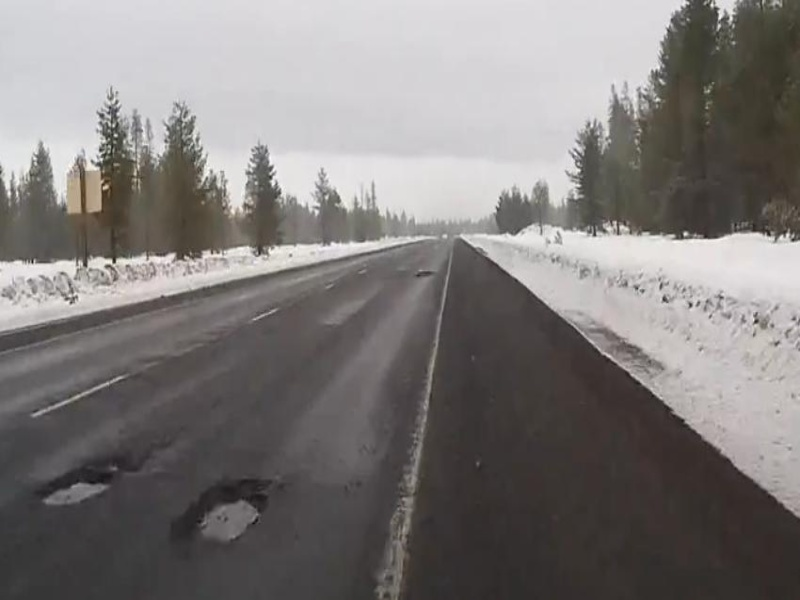pothole: (170, 474, 273, 567), (34, 453, 127, 515)
